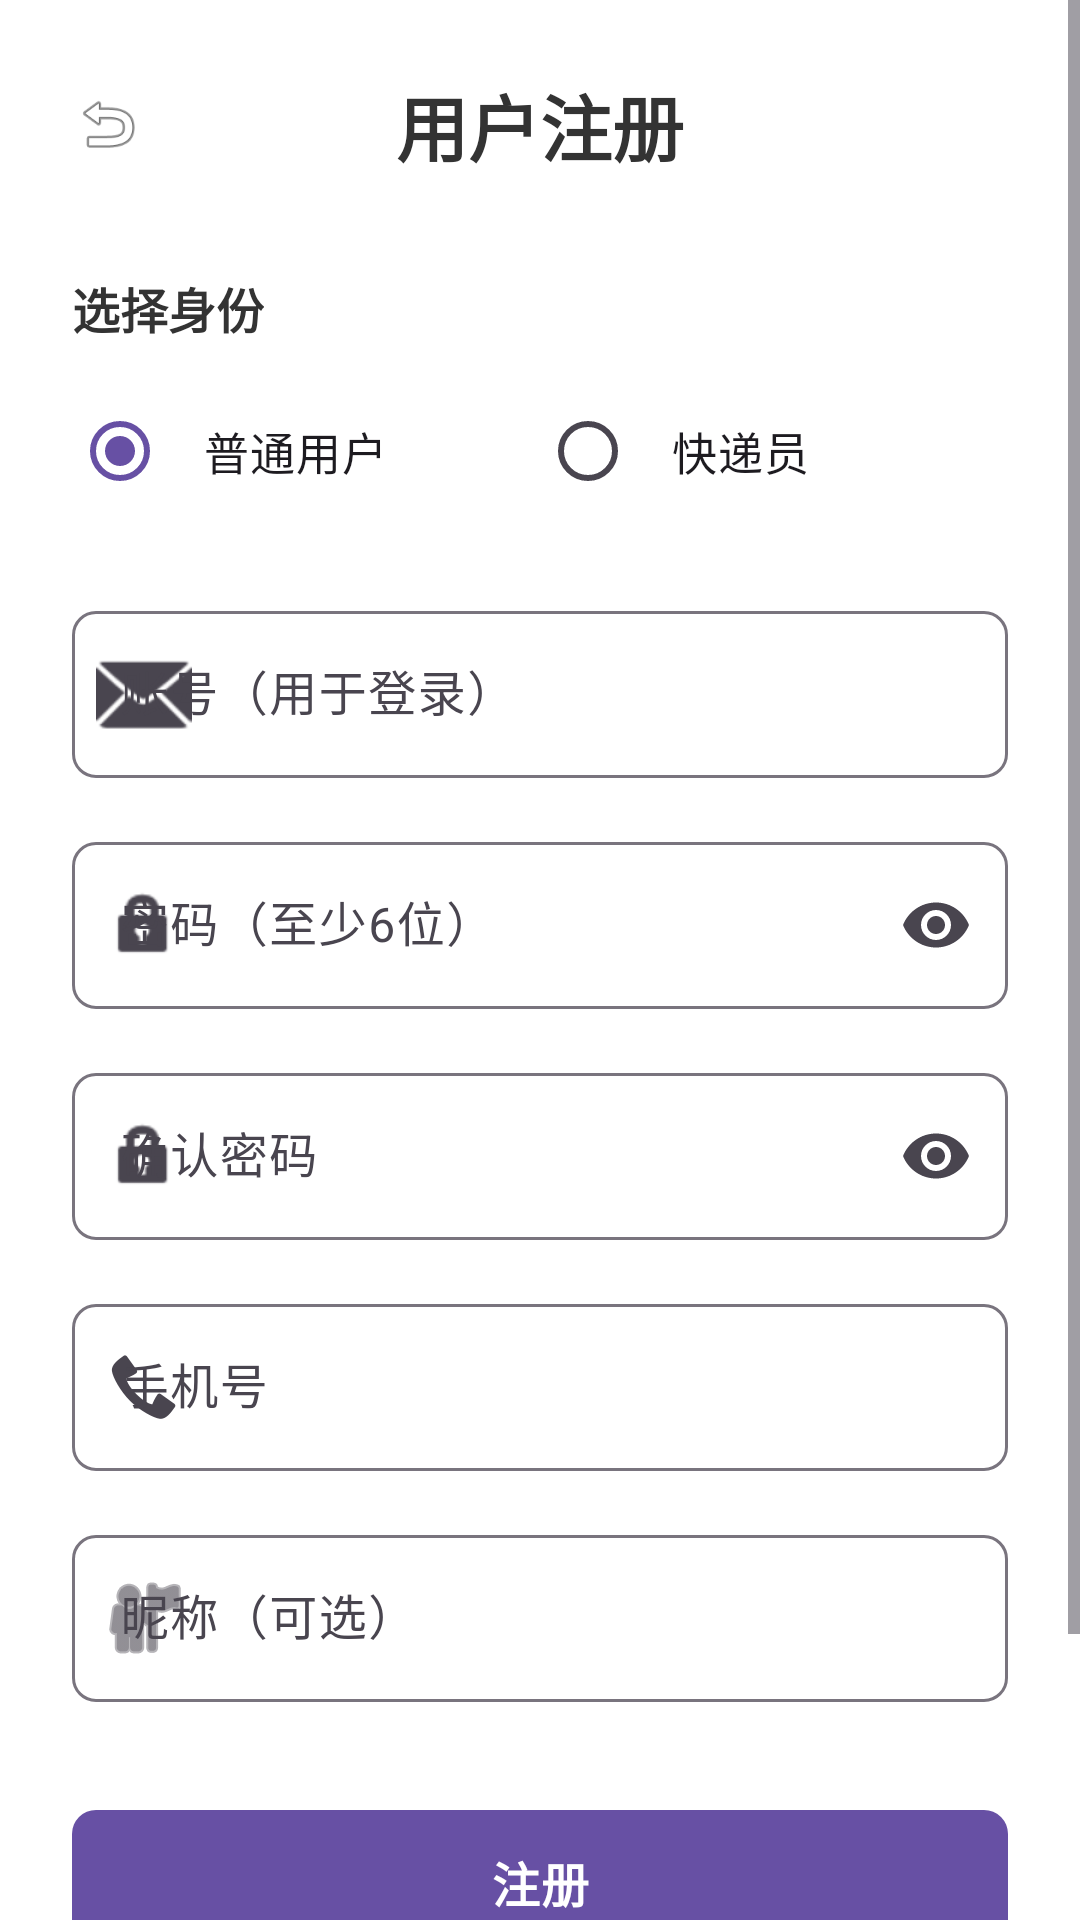

Point at icon controls on the screen. Image size 1080w x 1920h, points as (x,y).
返回: (109,124)
